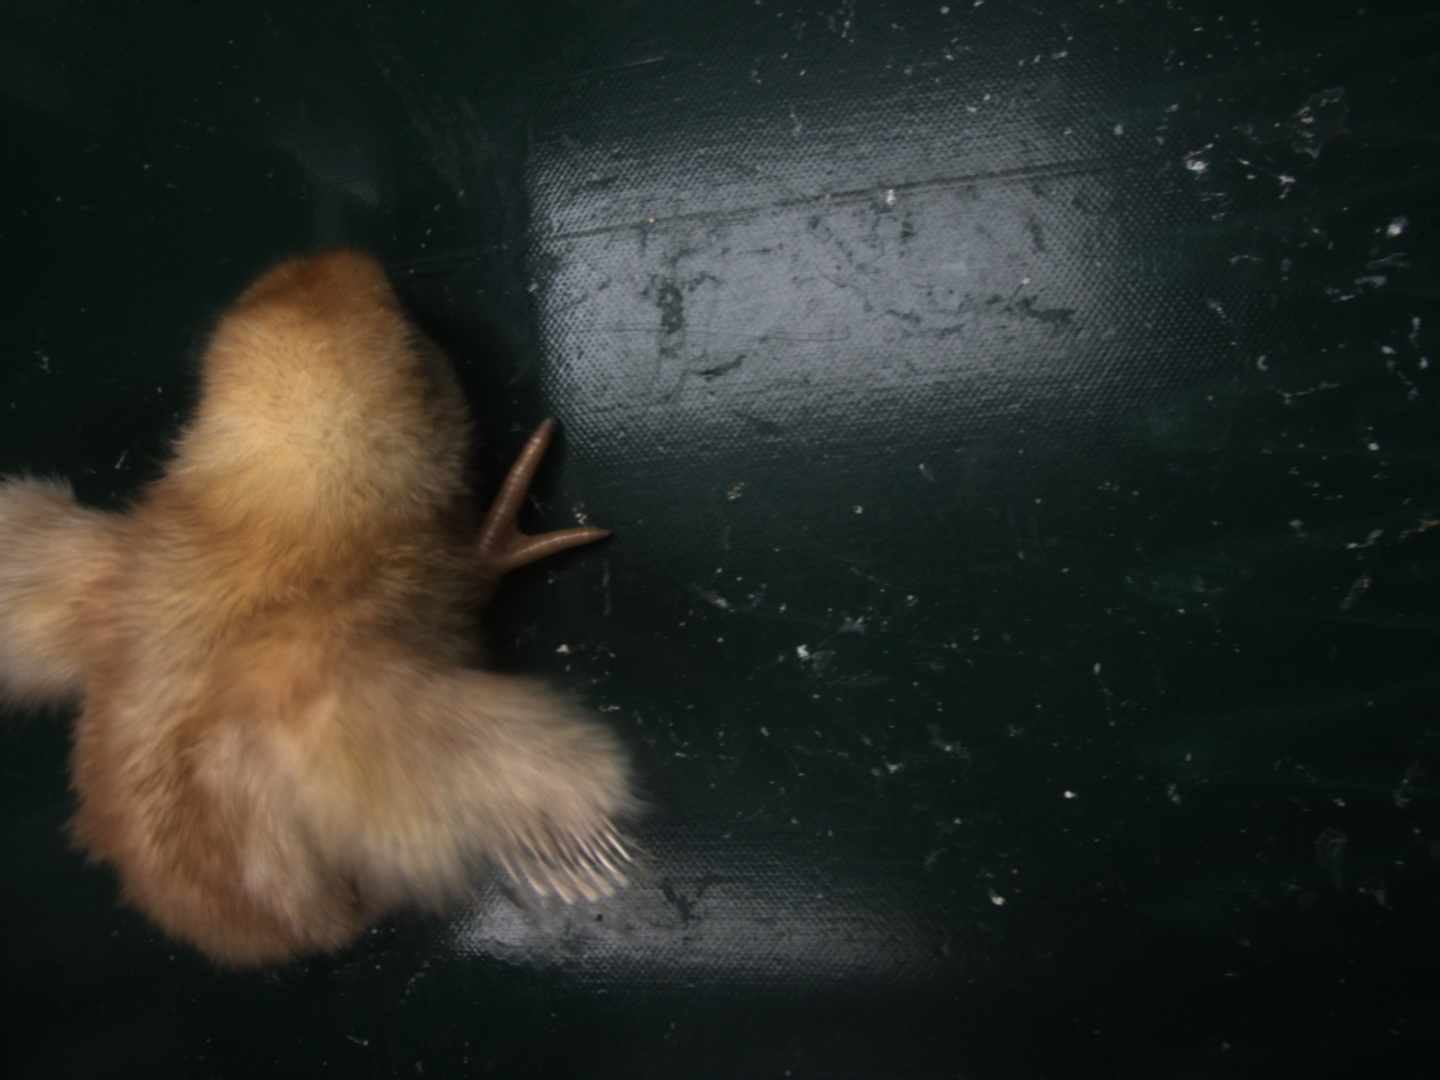female: (501, 815, 632, 900)
